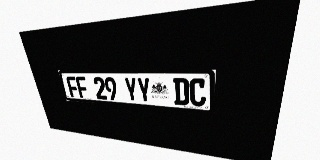2: (93, 77, 107, 100)
9: (104, 77, 119, 100)
C: (189, 78, 206, 107)
D: (173, 78, 189, 106)
F: (66, 76, 80, 98), (75, 76, 89, 98)
Y: (136, 77, 152, 103), (123, 77, 139, 102)
